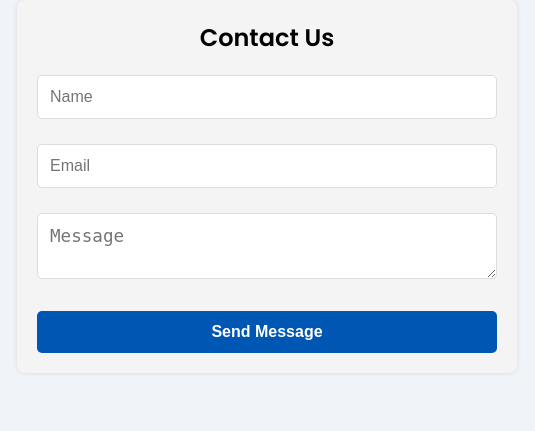
Test: ContactForm Component › shows success message on form submit
// Fill out the form
Type "John Doe" into the field with placeholder "Name" at (267, 97), box 37,75 -> 497,119
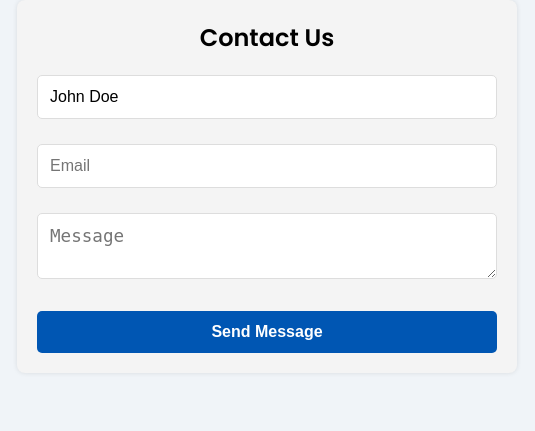
Type "john.doe@example.com" into the field with placeholder "Email" at (267, 166), box 37,144 -> 497,188
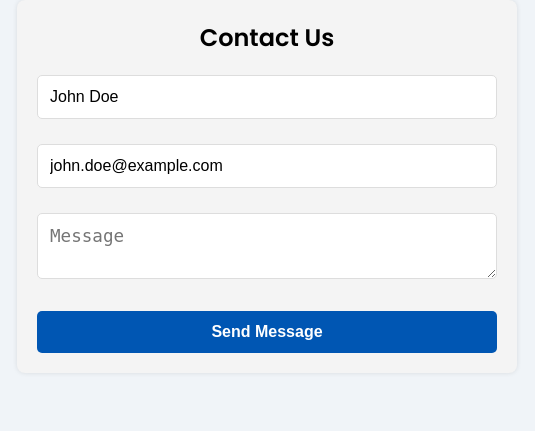
Type "Hello, this is a test message." into the text box with placeholder "Message" at (267, 246), box 37,213 -> 497,279
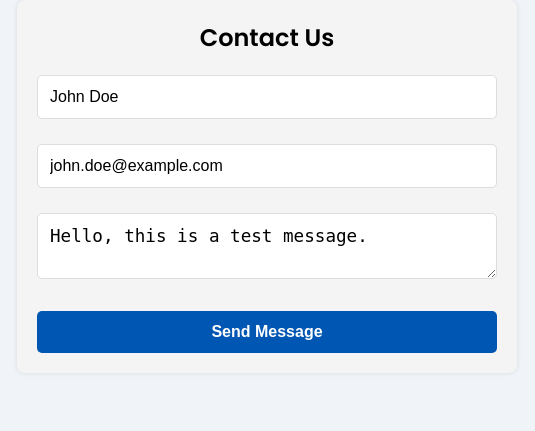
// Submit the form
Click the button "Send Message" at (267, 332), box 37,311 -> 497,353
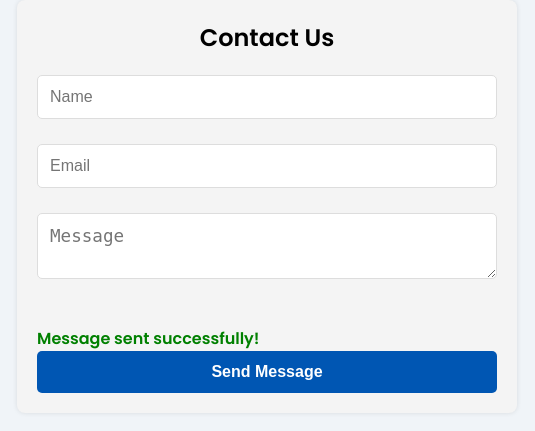
Expected: the text "Message sent successfully!" is shown, 37,327 -> 260,350
